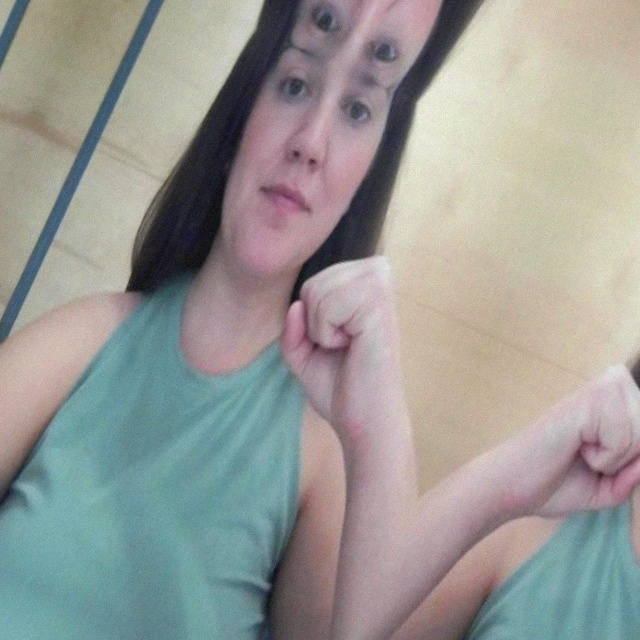Rock: (420, 0, 640, 38)
